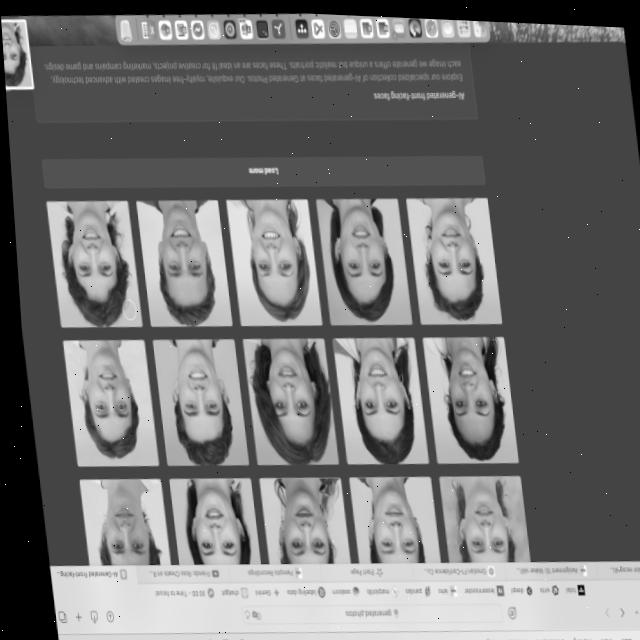happy: (423, 338, 505, 461)
